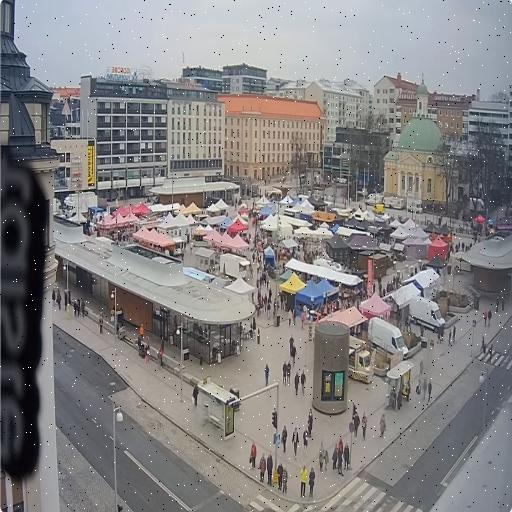Delivery: (368, 318, 407, 358), (409, 297, 444, 332), (348, 336, 374, 383)
